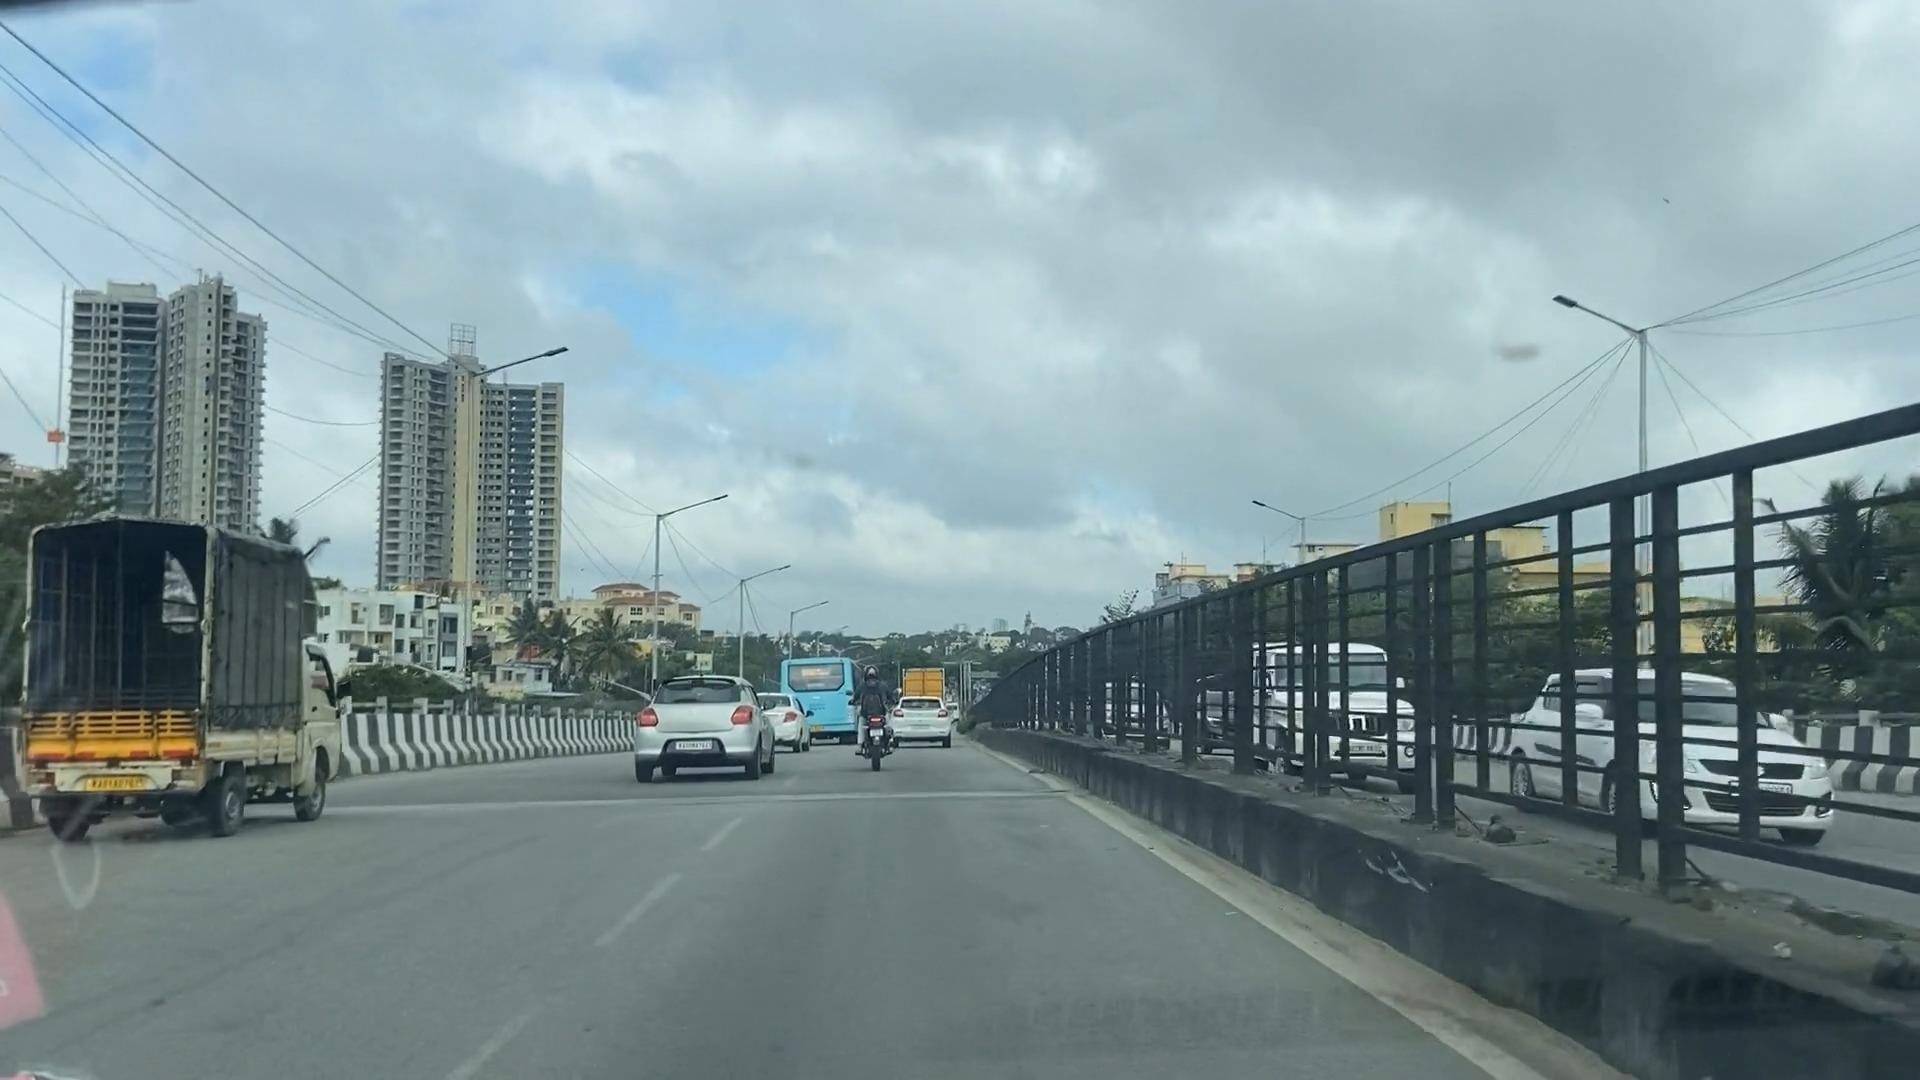HMV: (8, 512, 361, 862), (760, 609, 865, 760)
LMV: (626, 629, 785, 799), (822, 625, 931, 800), (865, 661, 961, 754)
